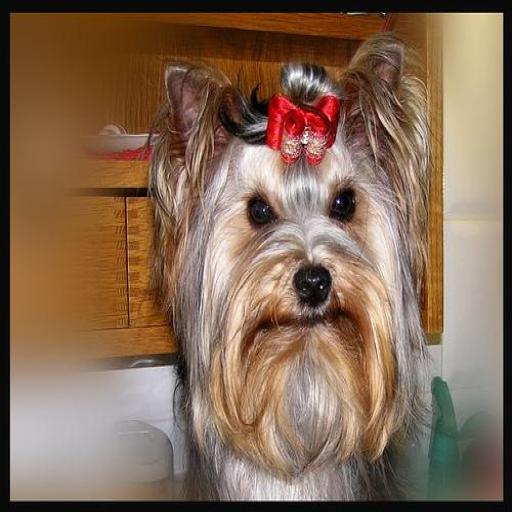dog_face: (166, 52, 408, 391)
